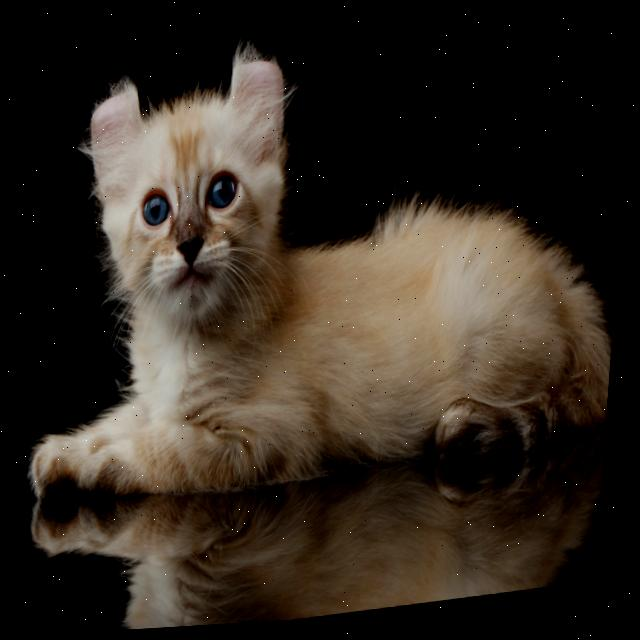American Curl: (1, 0, 638, 528)
